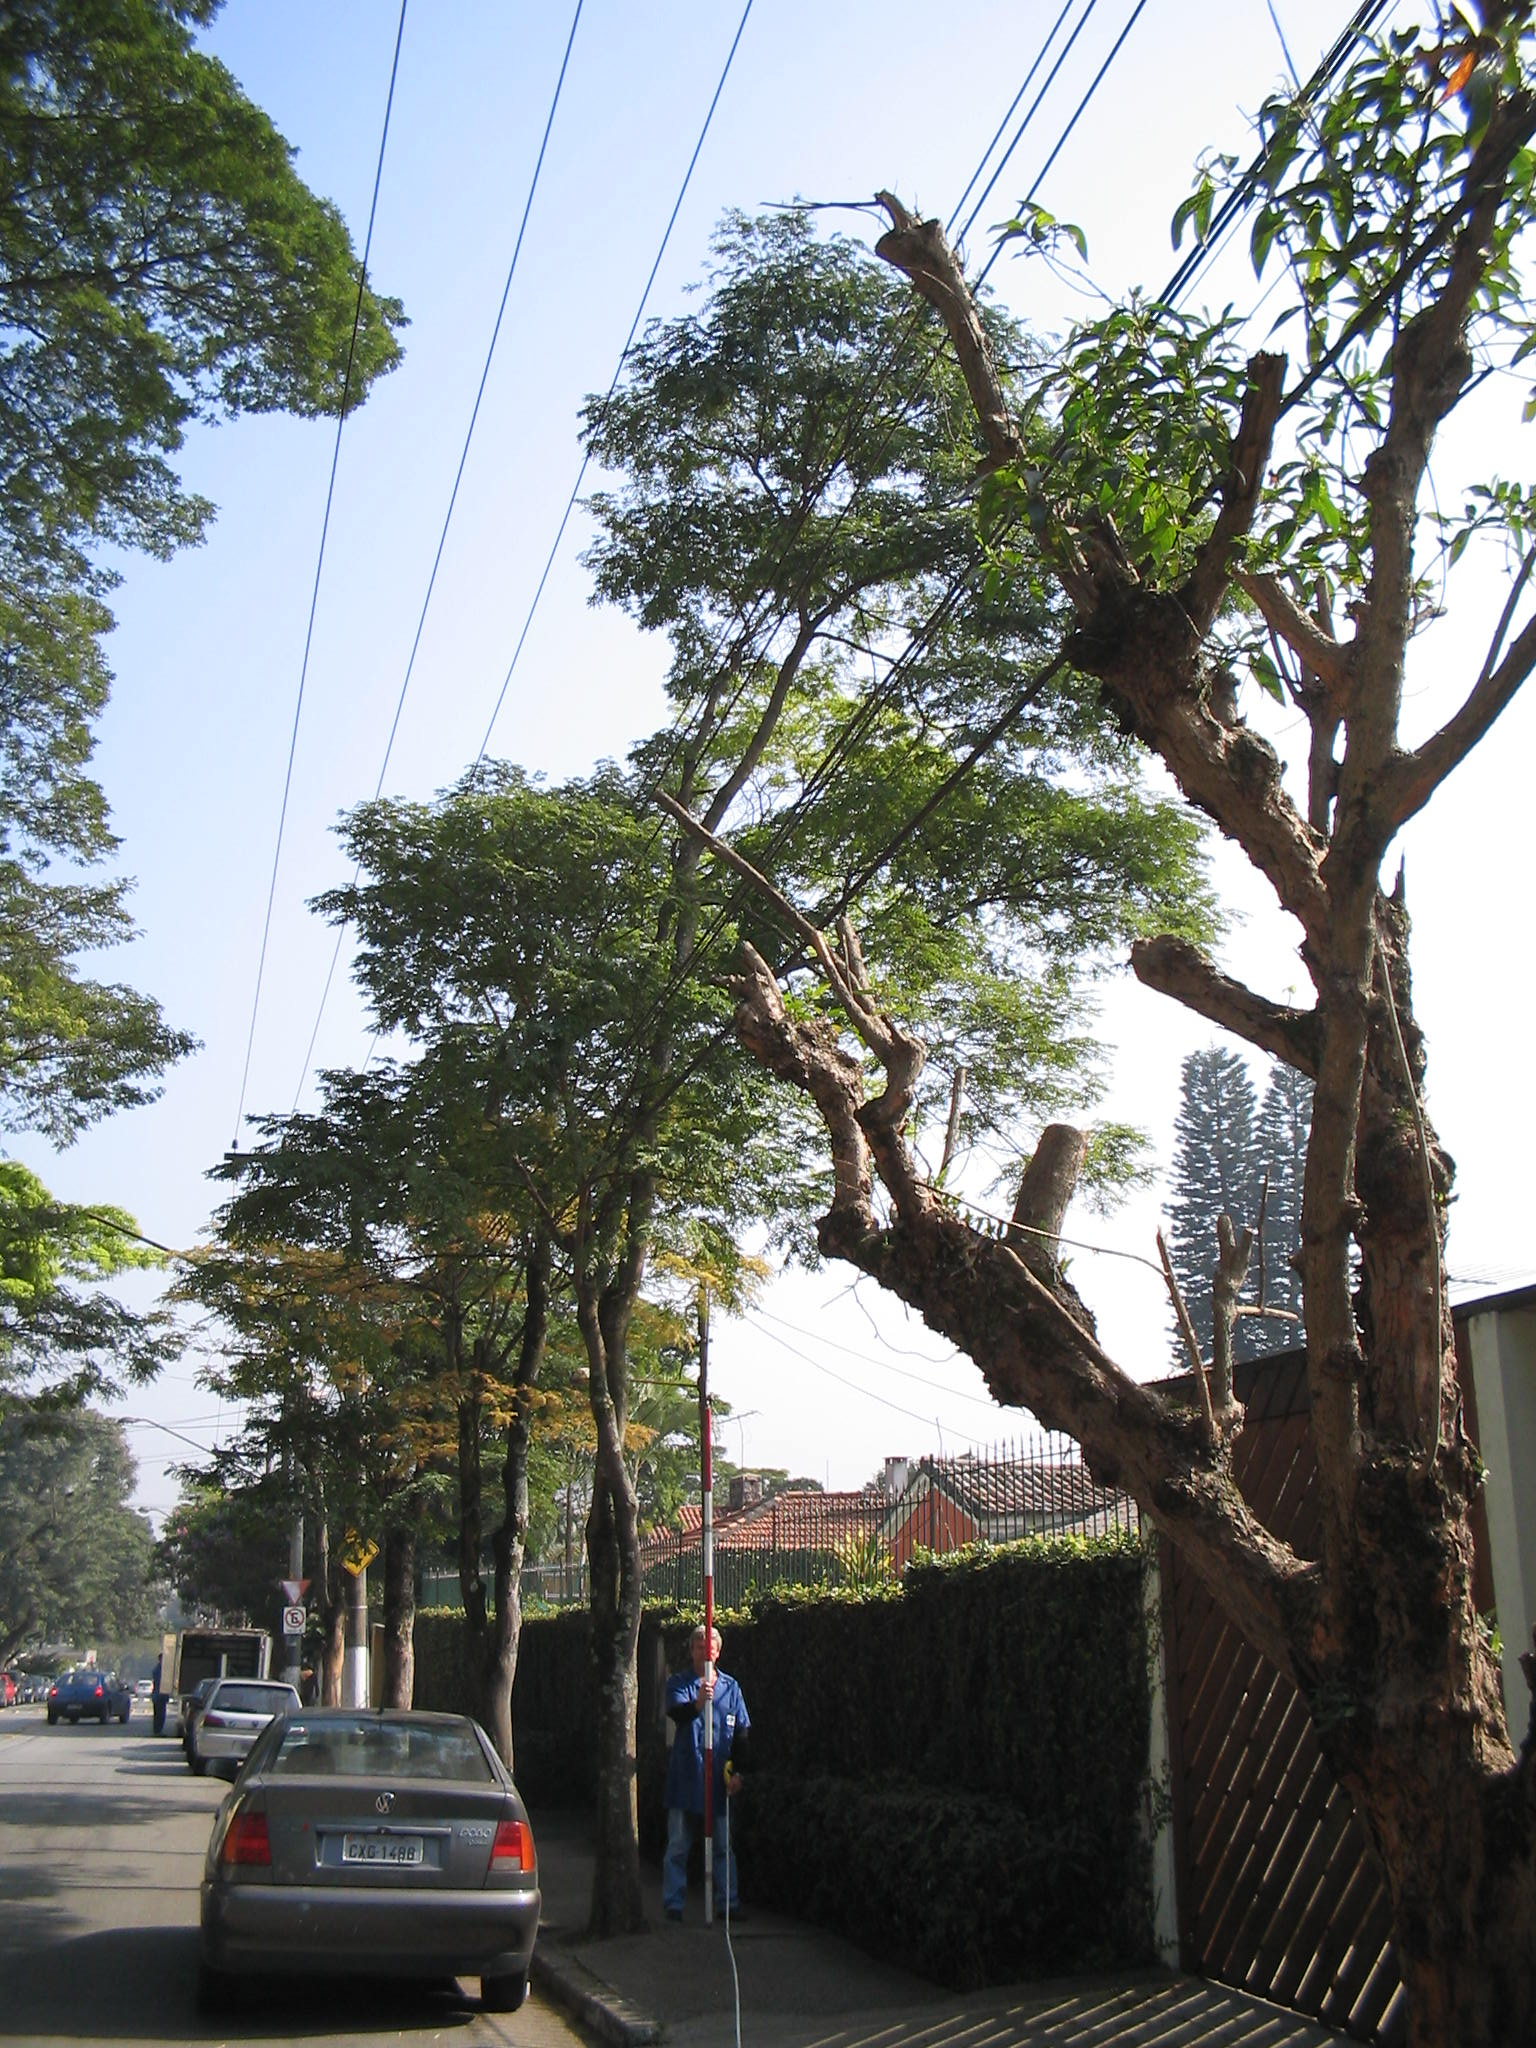crown: (313, 664, 1226, 1317)
stem: (1267, 1646, 1530, 2048), (550, 1635, 663, 1938)
stick: (684, 1376, 729, 1929)
tree: (649, 97, 1530, 2048), (308, 664, 1234, 1940)
